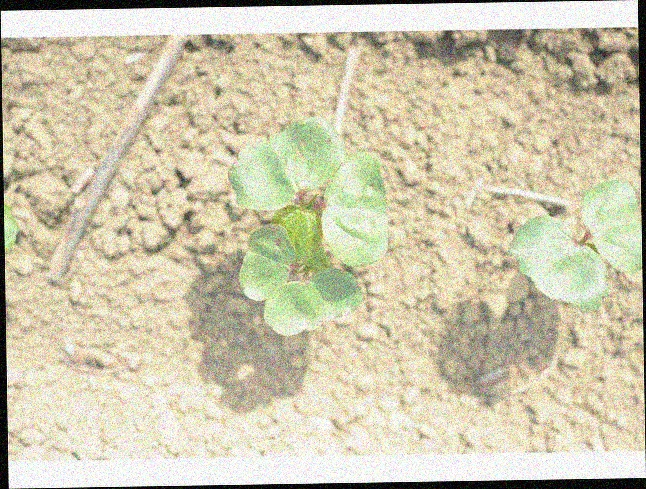cotton: (226, 116, 390, 337), (510, 175, 642, 313)
